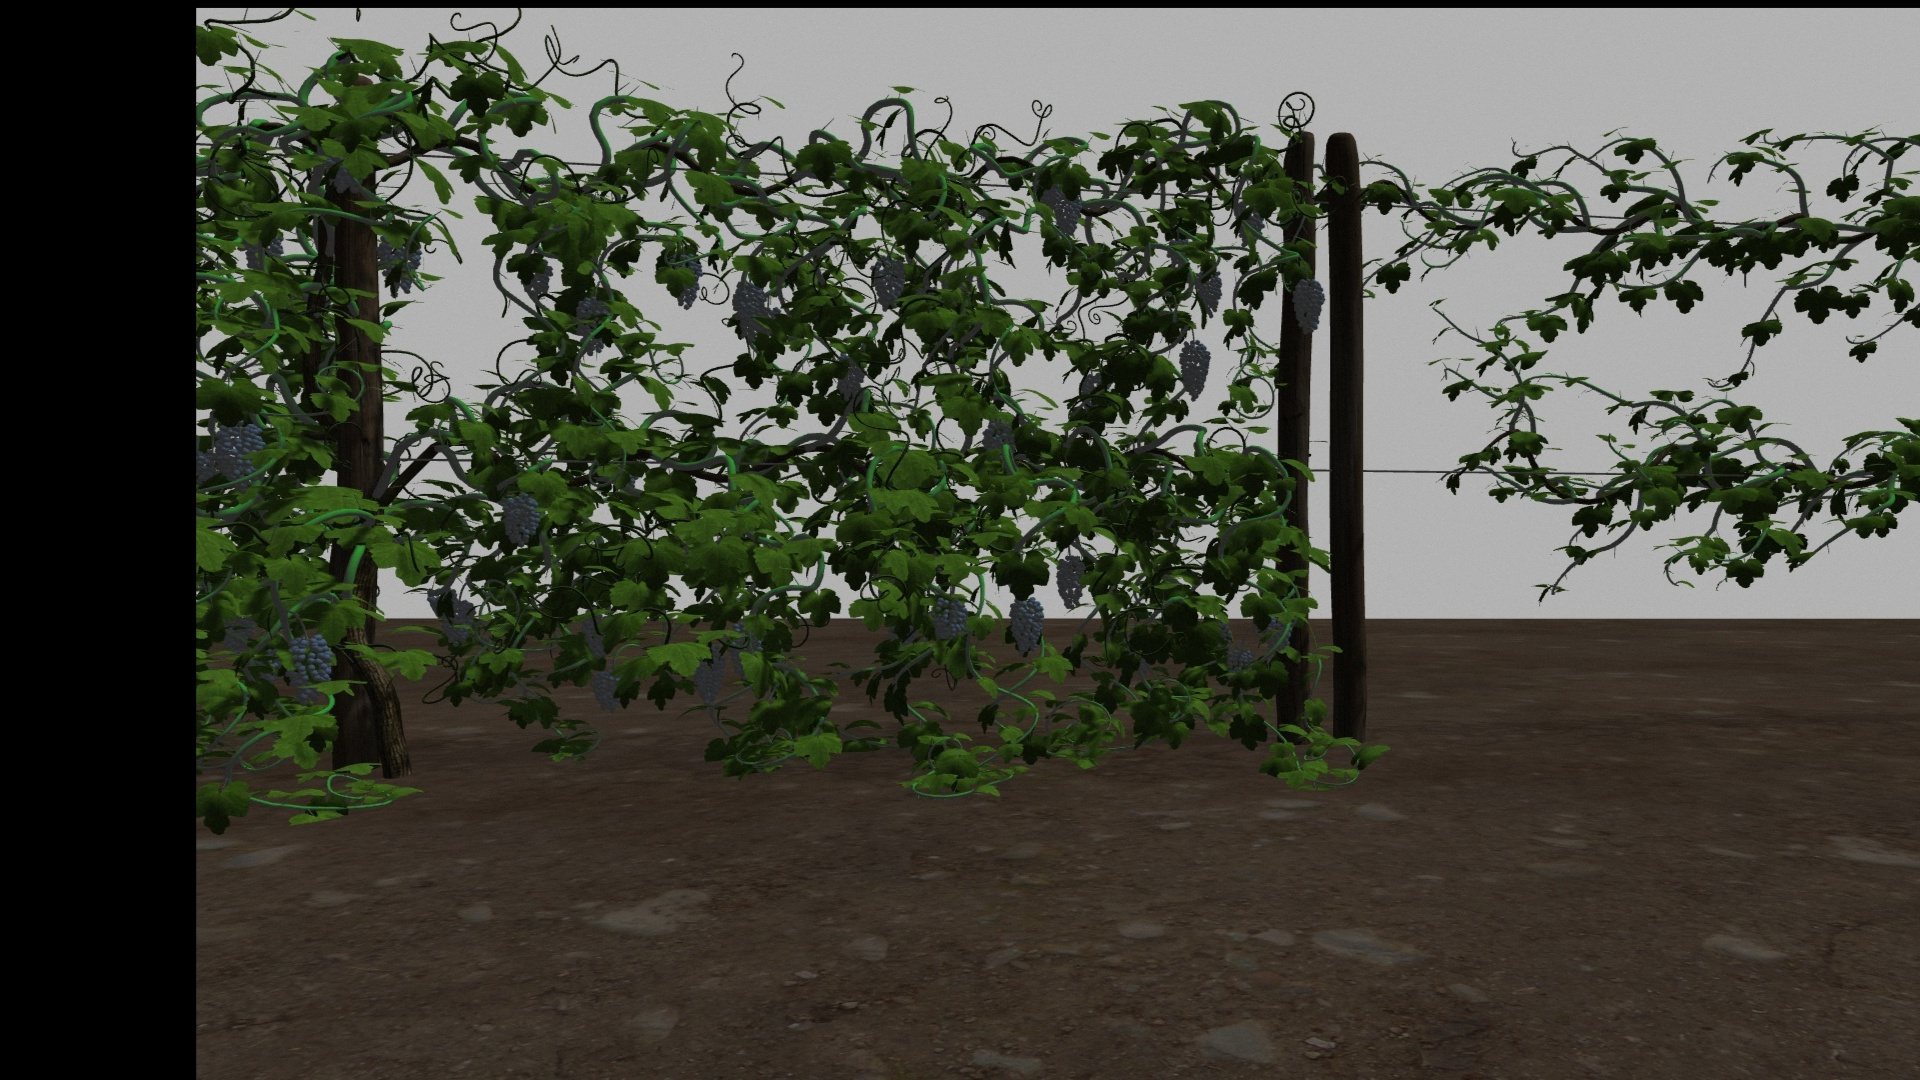grape: (284, 633, 332, 705), (214, 423, 265, 491), (376, 231, 422, 295), (732, 280, 767, 342), (501, 492, 542, 545), (728, 622, 762, 684), (1009, 596, 1044, 655), (1292, 276, 1325, 338), (692, 644, 725, 705), (1178, 340, 1211, 401), (669, 252, 703, 309), (872, 256, 906, 310), (575, 295, 607, 353), (1056, 554, 1087, 609), (930, 596, 967, 640), (443, 599, 476, 646), (589, 669, 626, 711), (582, 615, 613, 658), (837, 355, 864, 402), (1195, 266, 1222, 311), (1054, 194, 1083, 236), (1265, 616, 1292, 654), (526, 260, 553, 295), (981, 421, 1011, 448), (1228, 646, 1251, 673), (1042, 185, 1062, 207)
